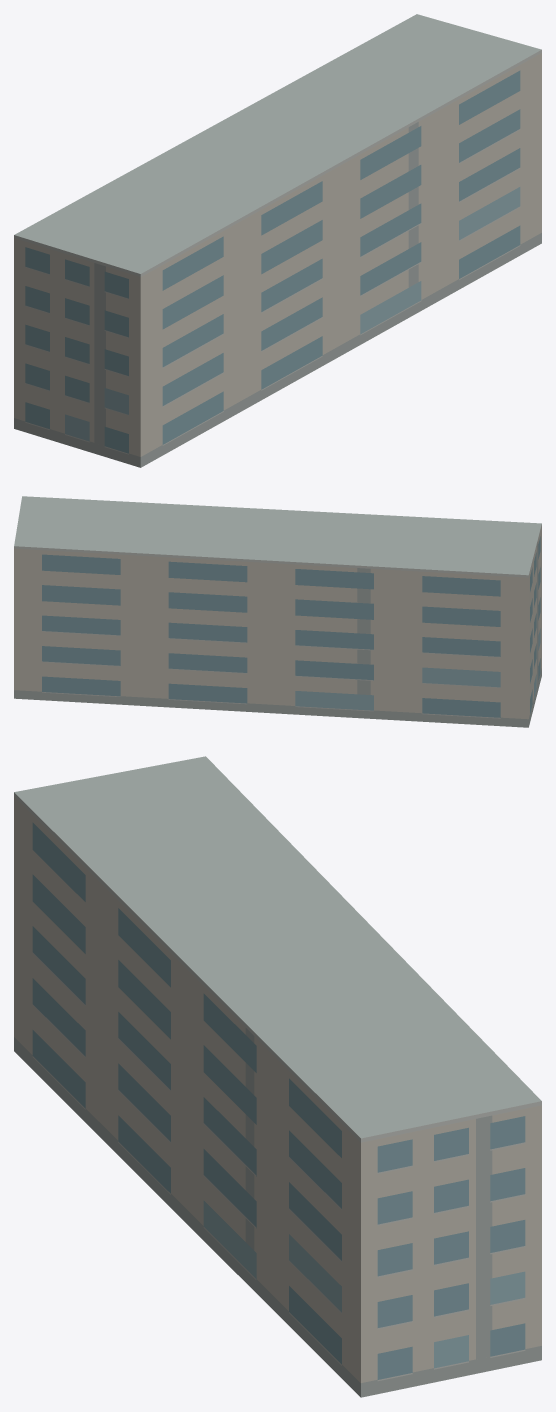
File: residential-39bbbd04-cb5c-4e25-ac5f-3728f0055b51.glb
3 views of the same model, one above another, from view 1: azimuth 30°, elevation 25°; view 2: azimuth 150°, elevation 25°; view 3: azimuth 270°, elevation 25° (orthographic). The views are drawn at different scales.
Visible parts, largest first — view 1: residential-39bbbd04-cb5c-4e25-ac5f-3728f0055b51.tmp; view 2: residential-39bbbd04-cb5c-4e25-ac5f-3728f0055b51.tmp; view 3: residential-39bbbd04-cb5c-4e25-ac5f-3728f0055b51.tmp.
Part boxes in pixels (box(x1,y1,x2,y2)): residential-39bbbd04-cb5c-4e25-ac5f-3728f0055b51.tmp: box(14, 14, 541, 467); residential-39bbbd04-cb5c-4e25-ac5f-3728f0055b51.tmp: box(14, 496, 541, 727); residential-39bbbd04-cb5c-4e25-ac5f-3728f0055b51.tmp: box(14, 756, 541, 1397).
Size of the model in its own units: 48.26 by 15.25 by 28.16.
